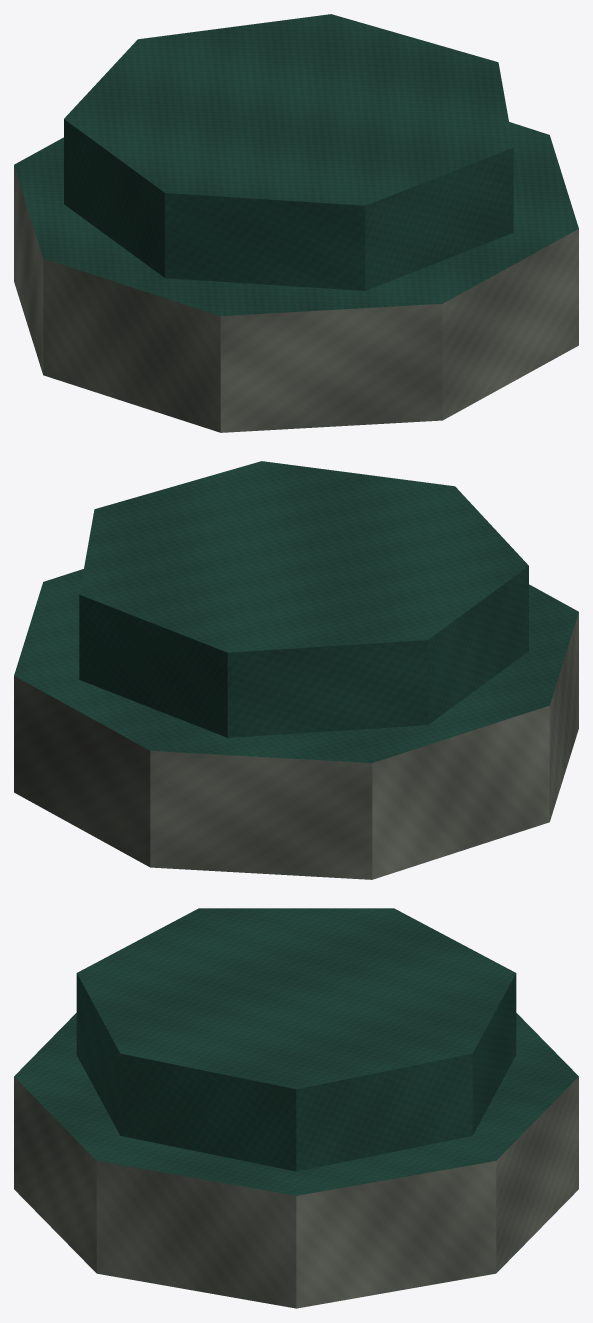
The model's file is prop_plaza_planter_LOD1.glb.
3 views of the same model, one above another, from view 1: azimuth 30°, elevation 25°; view 2: azimuth 150°, elevation 25°; view 3: azimuth 270°, elevation 25° (orthographic). The views are drawn at different scales.
Parts seen in each view (by area): view 1: prop_plaza_planter__surface.001; view 2: prop_plaza_planter__surface.001; view 3: prop_plaza_planter__surface.001.
Boxes of the visible parts, x1,y1,x2,y2 form: prop_plaza_planter__surface.001: [14, 14, 578, 432]; prop_plaza_planter__surface.001: [14, 461, 578, 879]; prop_plaza_planter__surface.001: [14, 908, 578, 1308].
Bounding box in the file's own units: 1.68 × 0.64 × 1.68.
Materials: 2 (2 with a texture image).
